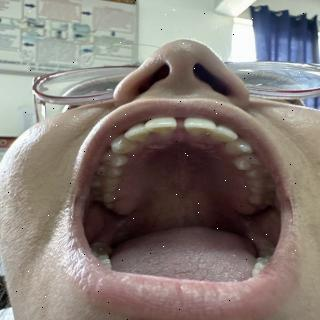plaque: (205, 128, 216, 140)
